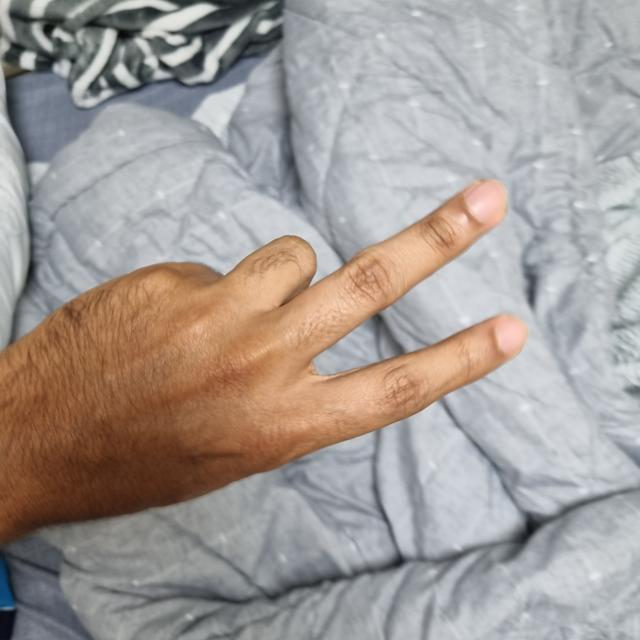Scissors: (2, 182, 519, 526)
